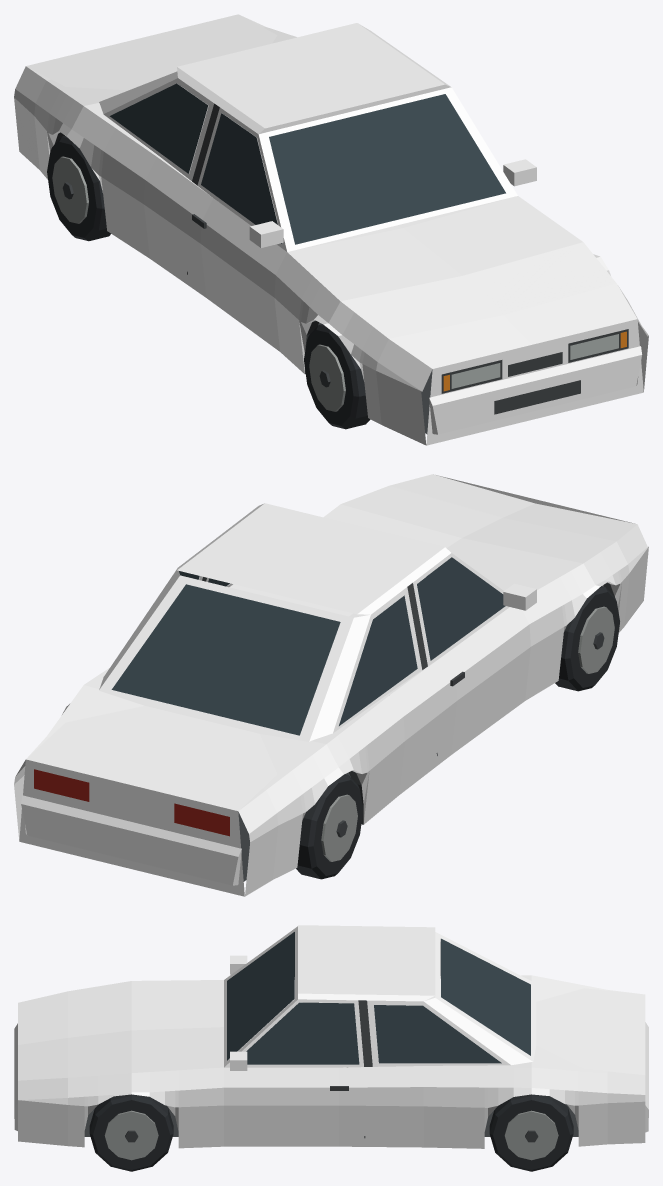
File: hayase_kagura_s.glb
3 views of the same model, one above another, from view 1: azimuth 30°, elevation 25°; view 2: azimuth 150°, elevation 25°; view 3: azimuth 270°, elevation 25° (orthographic). The views are drawn at different scales.
Visible parts, largest first — view 1: hayase_kagura_s; view 2: hayase_kagura_s; view 3: hayase_kagura_s.
Boxes of the visible parts, x1,y1,x2,y2 form: hayase_kagura_s: (14,14,648,445); hayase_kagura_s: (14,474,648,896); hayase_kagura_s: (14,925,648,1171).
Size of the model in its own units: 1.72 by 1.24 by 4.38.
8 materials, 1 textured.
